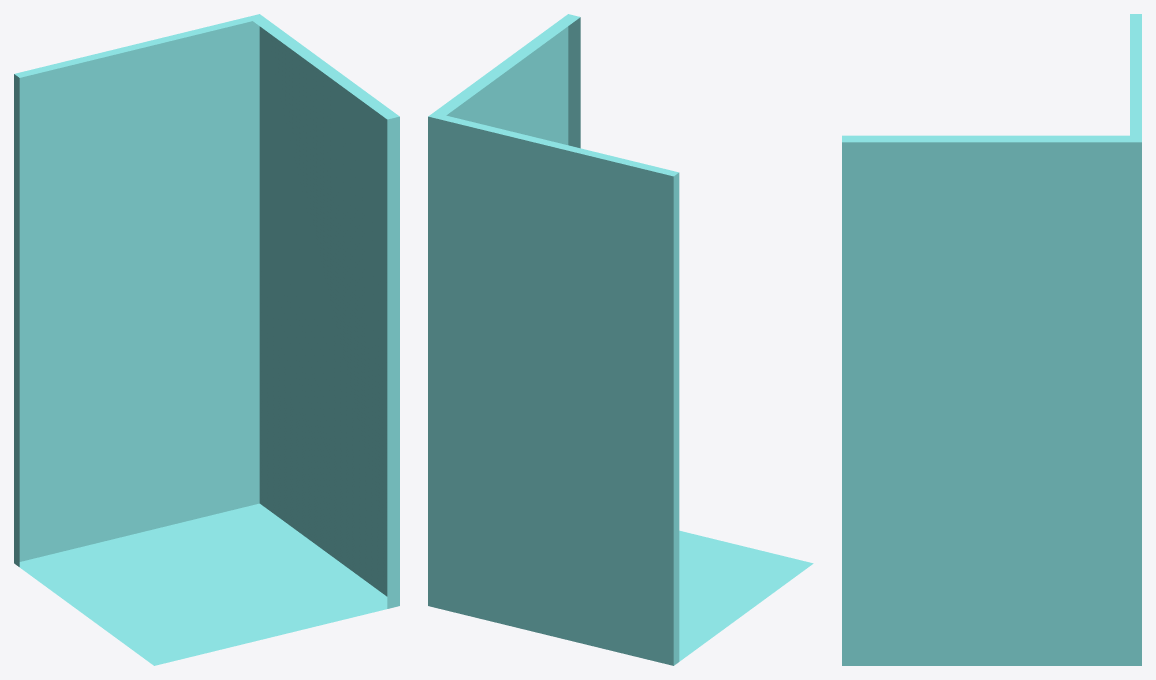
3 views of the same model, side by side, from view 1: azimuth 30°, elevation 25°; view 2: azimuth 150°, elevation 25°; view 3: azimuth 270°, elevation 25° (orthographic). The views are drawn at different scales.
Parts seen in each view (by area): view 1: Model; view 2: Model; view 3: Model.
Boxes of the visible parts, x1,y1,x2,y2 form: Model: (14,14,399,665); Model: (428,14,813,665); Model: (842,14,1141,665).
Bounding box in the file's own units: 74.51 × 142 × 73.61.
